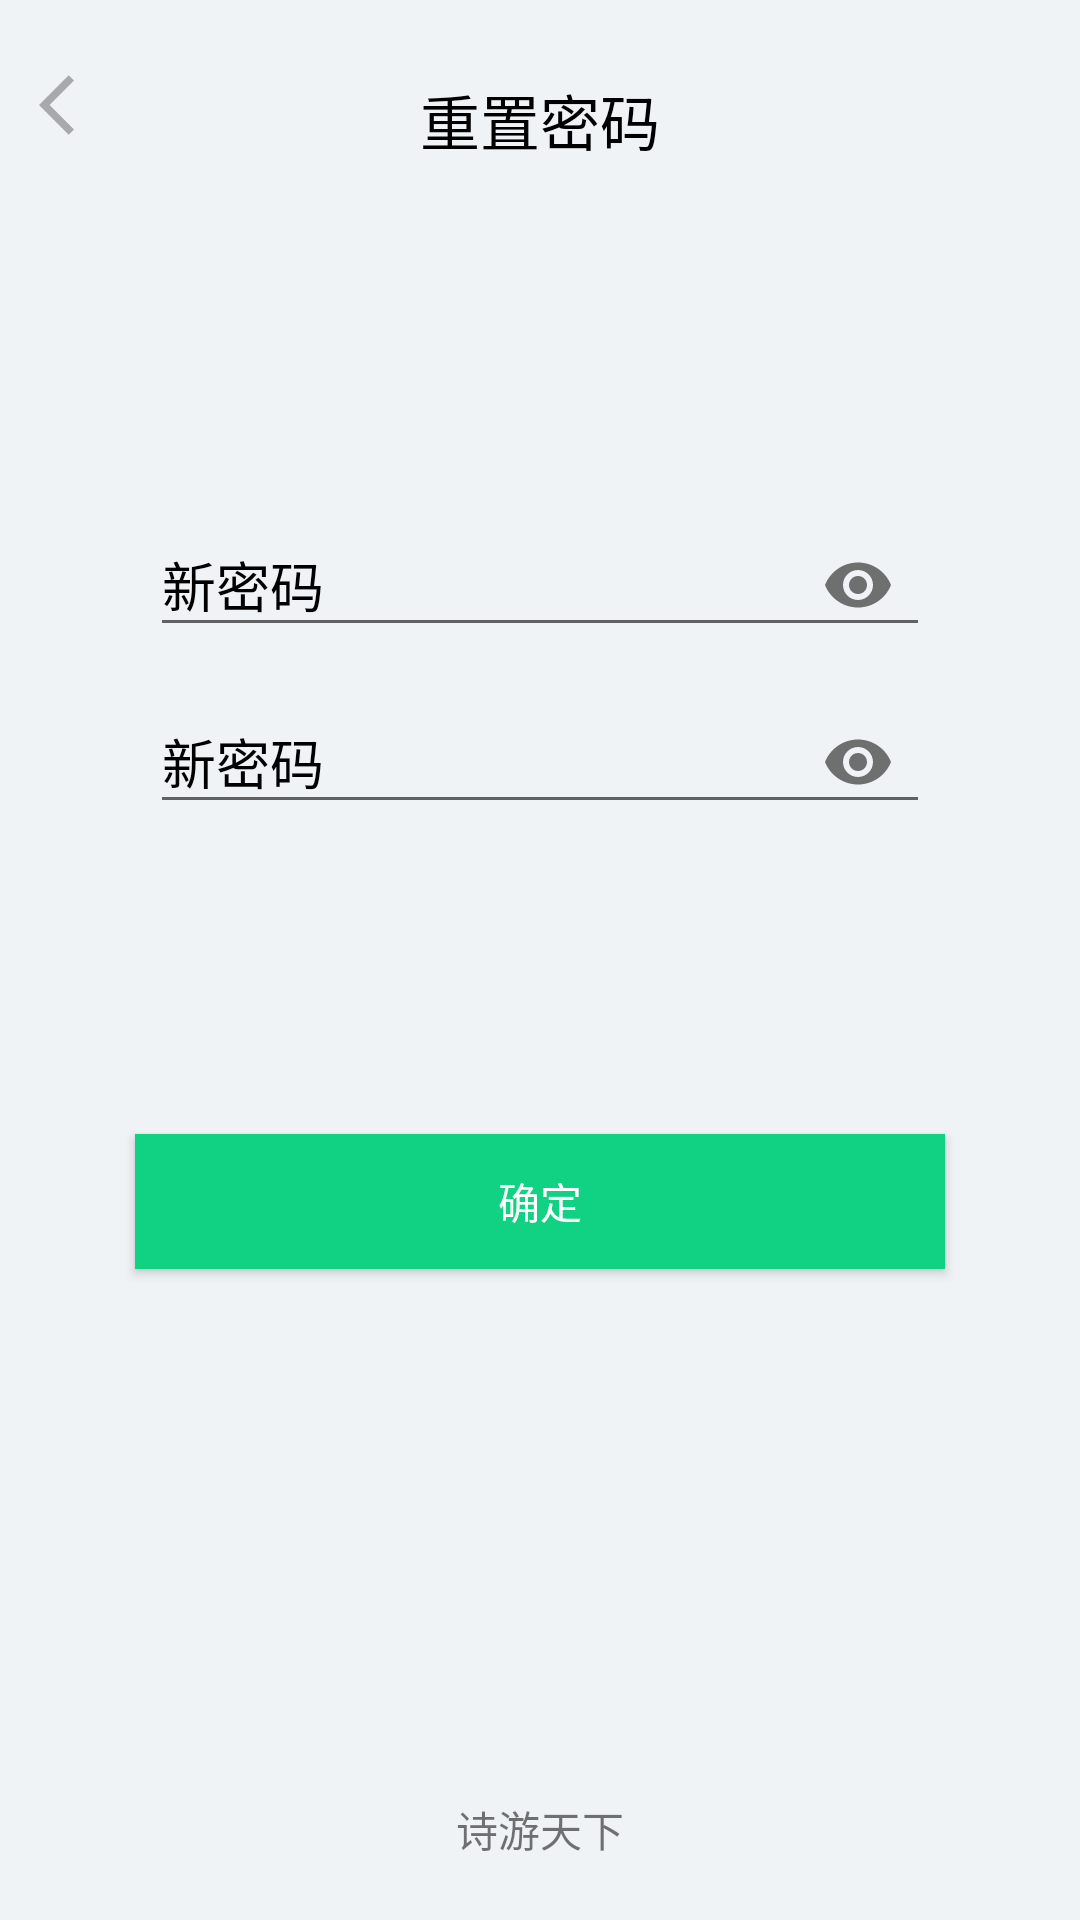

Icon click points for this 1080px x 1920px phone screenshot, format [x,y]:
arrow back: [56,105]
